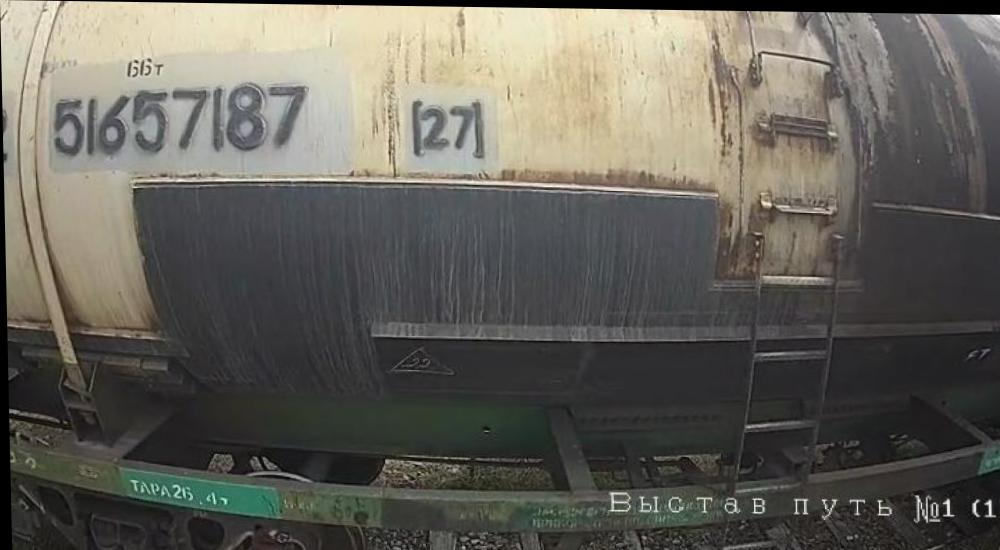Wagon-number: (47, 75, 313, 164)
